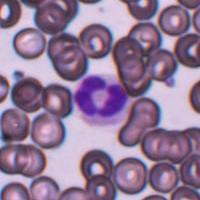N: (73, 73, 130, 125)
